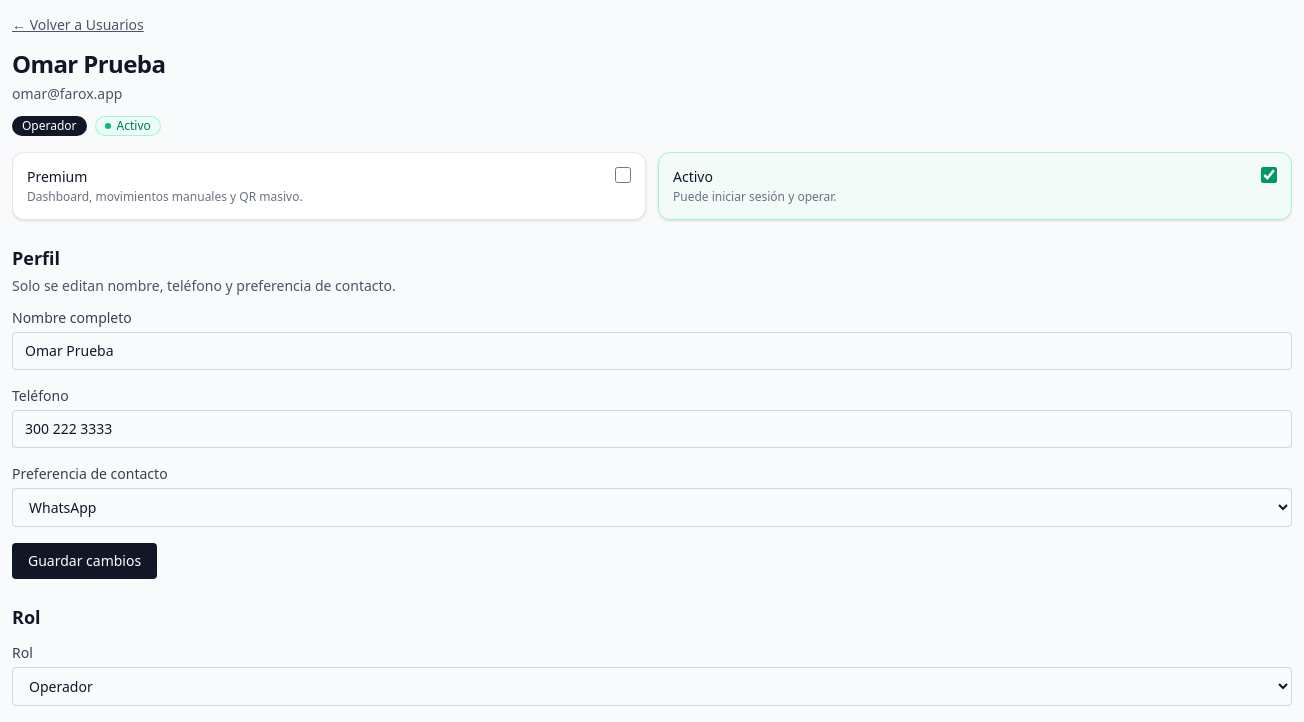
Test case: UserDetailPage · ADM-4 (perfil: SOLO las 3 columnas GRANT'd) › ADM-4.1: guardar válido ⇒ updateUserProfile con exactamente 3 columnas + refetch de la fila
Expected: the field showing "Omar Prueba" is shown, 12,332 -> 1292,370
Click the button "Guardar cambios" at (85, 561), box 12,543 -> 157,579
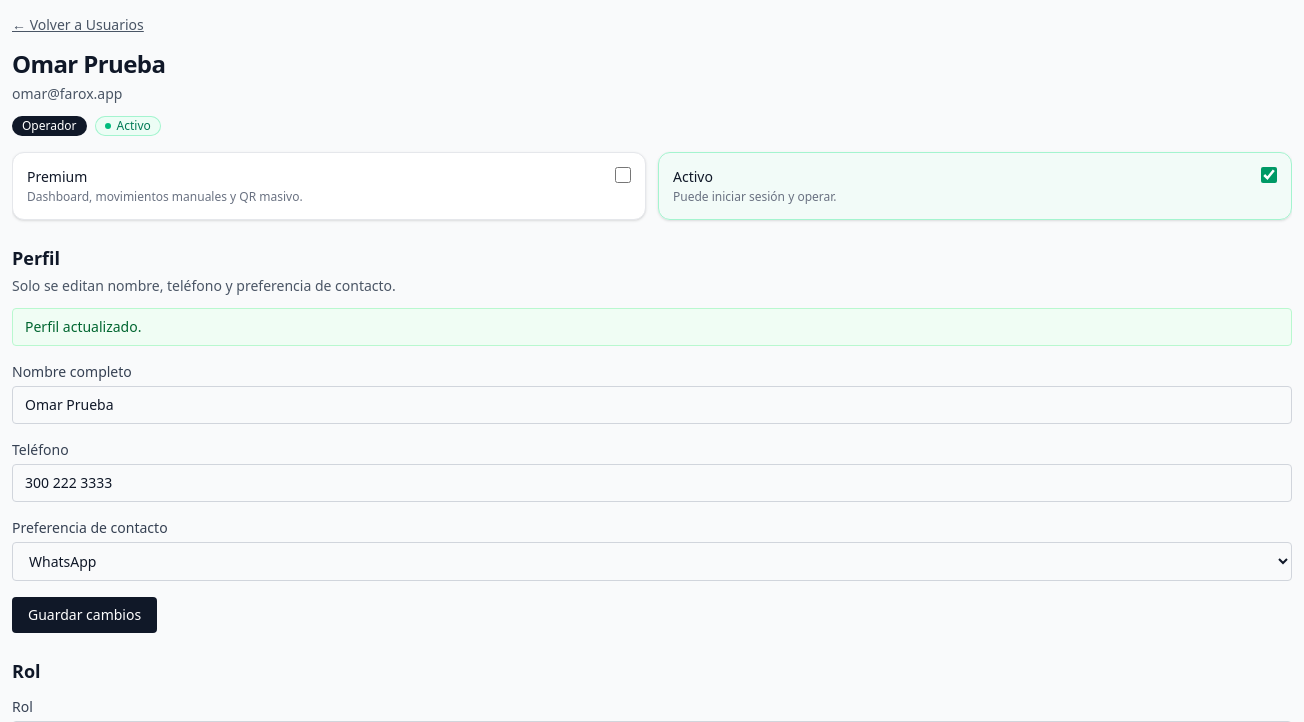
Expected: the text "Perfil actualizado." is shown, 12,308 -> 1292,346
